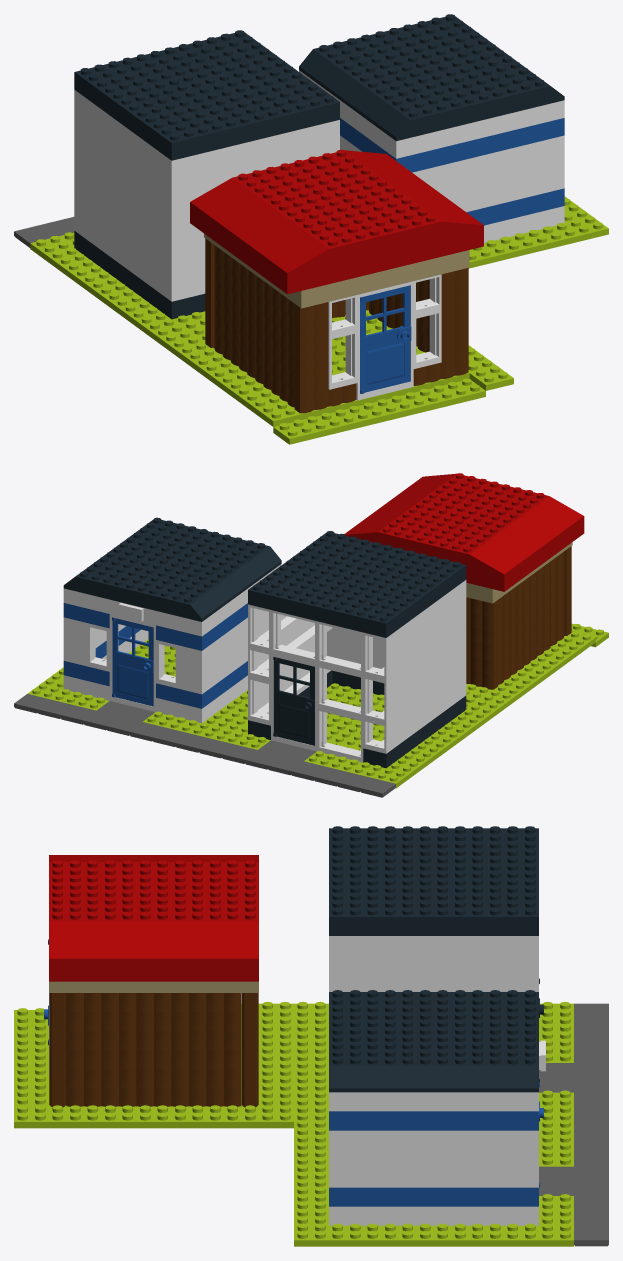
The model's file is Block4-lod1.fbx.
The picture shows the model from 3 angles, top to bottom: view 1: azimuth 30°, elevation 25°; view 2: azimuth 150°, elevation 25°; view 3: azimuth 270°, elevation 25°; orthographic projection. The views are drawn at different scales.
Parts seen in each view (by area): view 1: Material_26, Material_1, Material_21, Material_119, Material_192, Material_23, Material_5, Material_199; view 2: Material_1, Material_26, Material_21, Material_119, Material_192, Material_199, Material_23, Material_5; view 3: Material_26, Material_119, Material_1, Material_21, Material_192, Material_199, Material_23, Material_5.
Part boxes in pixels (left/top/right/bottom): Material_26: left=74, top=14, right=564, bottom=319; Material_1: left=74, top=70, right=564, bottom=400; Material_21: left=190, top=149, right=483, bottom=294; Material_119: left=30, top=196, right=608, bottom=444; Material_192: left=205, top=238, right=468, bottom=413; Material_23: left=340, top=118, right=564, bottom=393; Material_5: left=204, top=233, right=469, bottom=308; Material_199: left=14, top=217, right=74, bottom=247; Material_1: left=63, top=564, right=466, bottom=762; Material_26: left=63, top=517, right=466, bottom=768; Material_21: left=344, top=473, right=584, bottom=591; Material_119: left=27, top=623, right=608, bottom=788; Material_192: left=466, top=546, right=571, bottom=689; Material_199: left=14, top=694, right=395, bottom=797; Material_23: left=63, top=603, right=247, bottom=708; Material_5: left=466, top=542, right=572, bottom=603; Material_26: left=329, top=826, right=543, bottom=1092; Material_119: left=14, top=1001, right=573, bottom=1246; Material_1: left=49, top=936, right=545, bottom=1225; Material_21: left=49, top=855, right=258, bottom=981; Material_192: left=49, top=993, right=258, bottom=1107; Material_199: left=539, top=1003, right=608, bottom=1246; Material_23: left=44, top=939, right=543, bottom=1206; Material_5: left=49, top=981, right=258, bottom=992.
Size of the model in its own units: 25.6 by 10.42 by 27.2.
